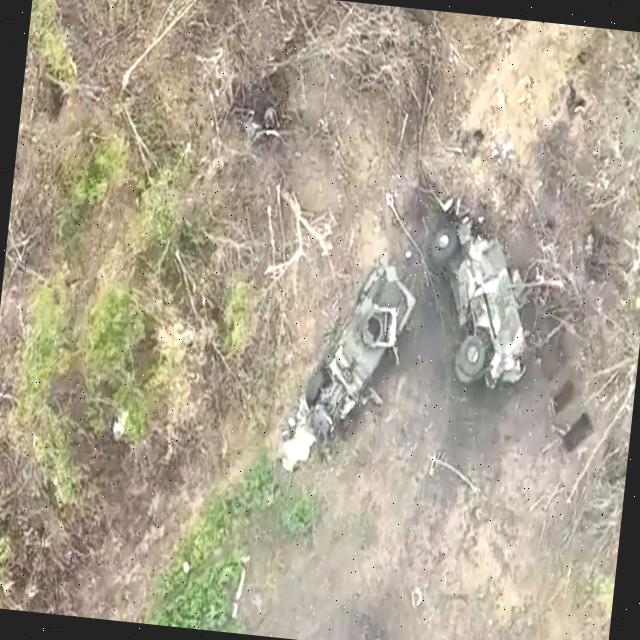Destroyed: (299, 241, 414, 456), (419, 208, 540, 407)
